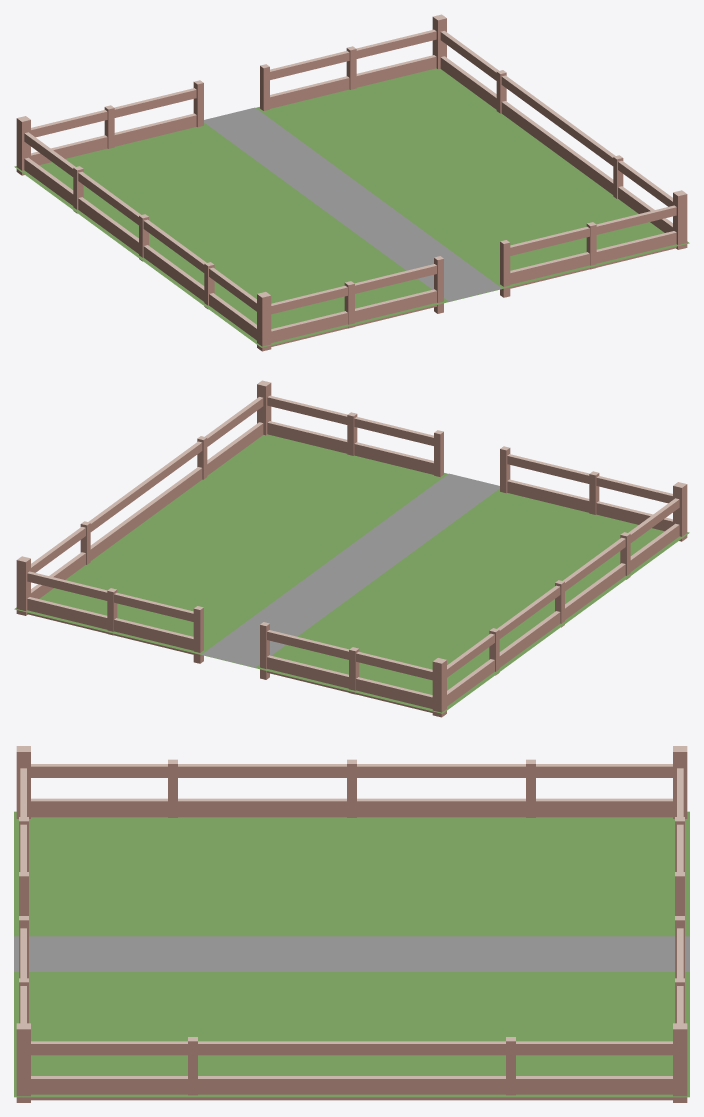
The model's file is tile_for_home_1x1_003.fbx.
The picture shows the model from 3 angles, top to bottom: view 1: azimuth 30°, elevation 25°; view 2: azimuth 150°, elevation 25°; view 3: azimuth 270°, elevation 25°; orthographic projection. The views are drawn at different scales.
Parts seen in each view (by area): view 1: tile_for_home_1x1_003; view 2: tile_for_home_1x1_003; view 3: tile_for_home_1x1_003.
Boxes of the visible parts, x1=… form: tile_for_home_1x1_003: x1=14, y1=14, x2=689, y2=351; tile_for_home_1x1_003: x1=14, y1=380, x2=689, y2=717; tile_for_home_1x1_003: x1=14, y1=746, x2=689, y2=1102.
Size of the model in its own units: 800 by 107 by 800.
